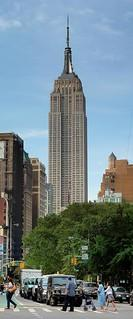building: (44, 70, 90, 211)
